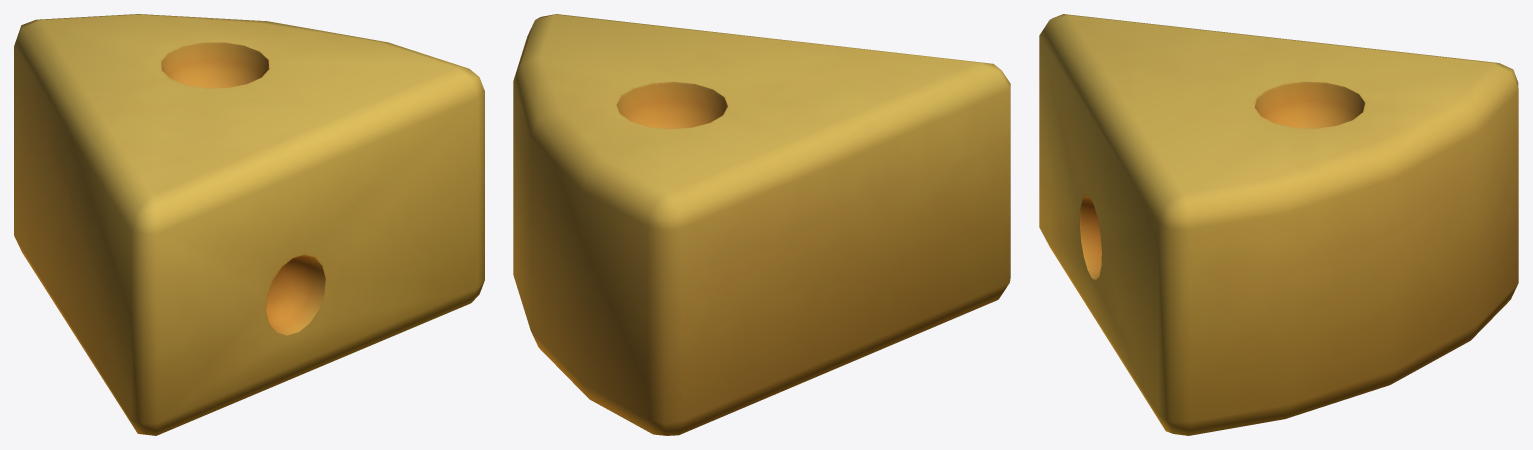
File: Cheese.fbx
3 renders of one model, left to right at view 1: azimuth 30°, elevation 25°; view 2: azimuth 150°, elevation 25°; view 3: azimuth 270°, elevation 25°, orthographic.
Parts seen in each view (by area): view 1: Cheese; view 2: Cheese; view 3: Cheese.
Boxes of the visible parts, <box> form: Cheese: <box>14,14,484,435</box>; Cheese: <box>513,14,1010,435</box>; Cheese: <box>1039,14,1518,435</box>.
Bounding box in the file's own units: 41.91 × 23.33 × 41.91.
